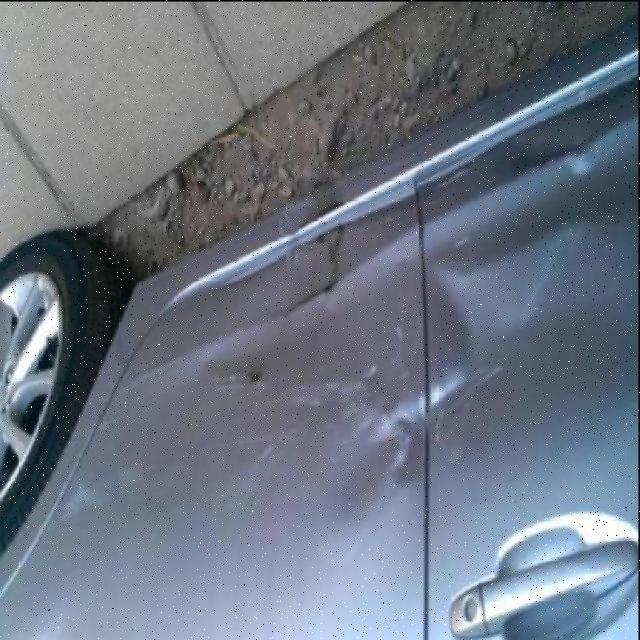damage: (338, 361, 496, 517), (207, 231, 379, 348), (431, 223, 576, 345), (499, 126, 614, 187), (215, 362, 266, 390)
